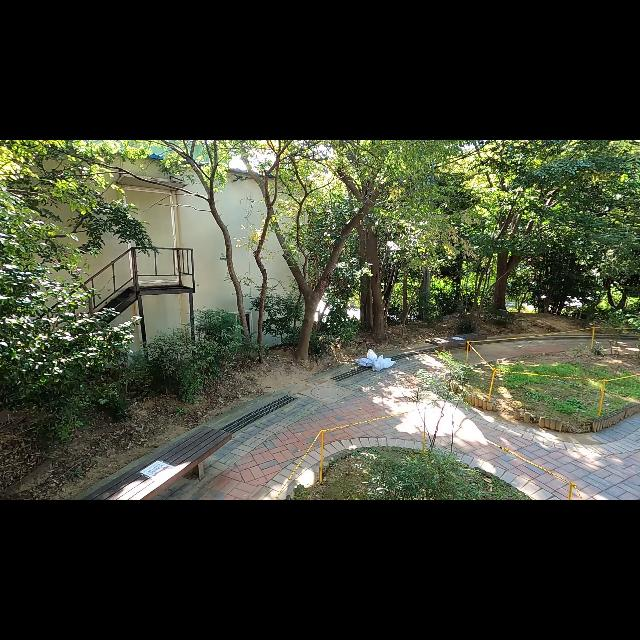trash: (354, 357, 374, 369), (378, 357, 398, 369), (373, 354, 385, 372), (366, 348, 378, 364)
